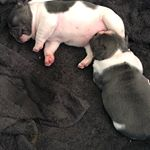puppy: (10, 1, 131, 70), (85, 25, 150, 141)
